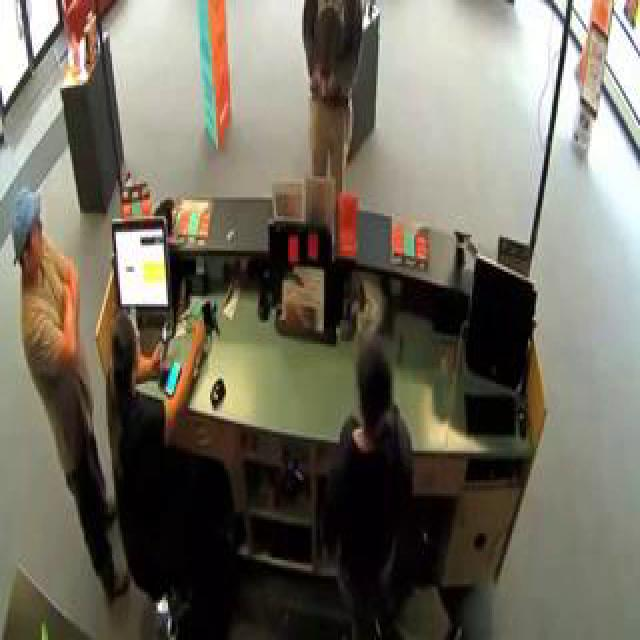robbery: (0, 115, 212, 579)
